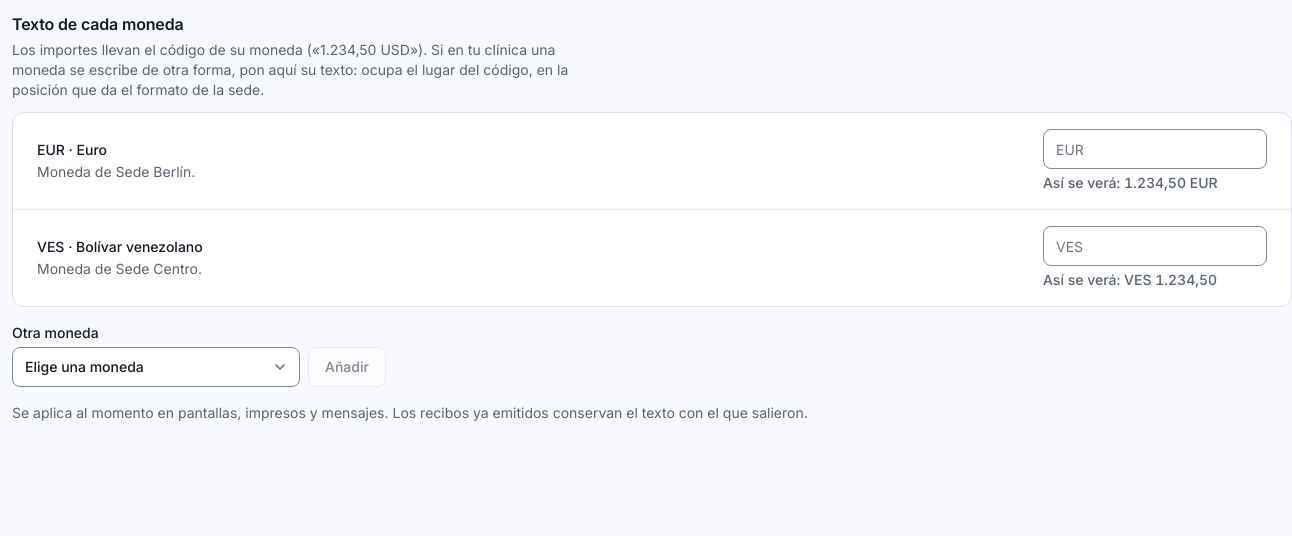
Test: Ajustes › Monedas (DX-517) › escribir «Bs.» lo previsualiza con el formato de la sede y guardar lo aplica a toda la pestaña
Type " Bs. " into the field named "Texto de VES" at (1155, 246), box [1043,226,1267,266]
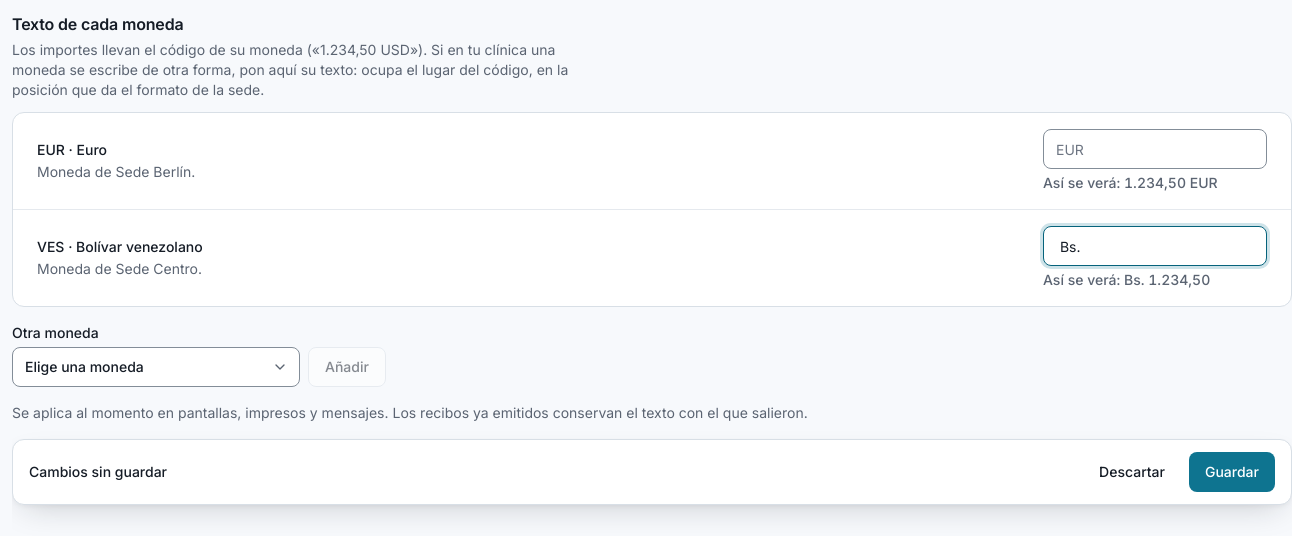
Now the text "Así se verá: Bs. 1.234,50" is shown, box [1043,271,1210,288]
Now the element "Cambios sin guardar" is shown, box [12,439,1291,505]
Click the button with aria-label "Guardar el texto de las monedas" at (1232, 472), box [1189,452,1275,492]
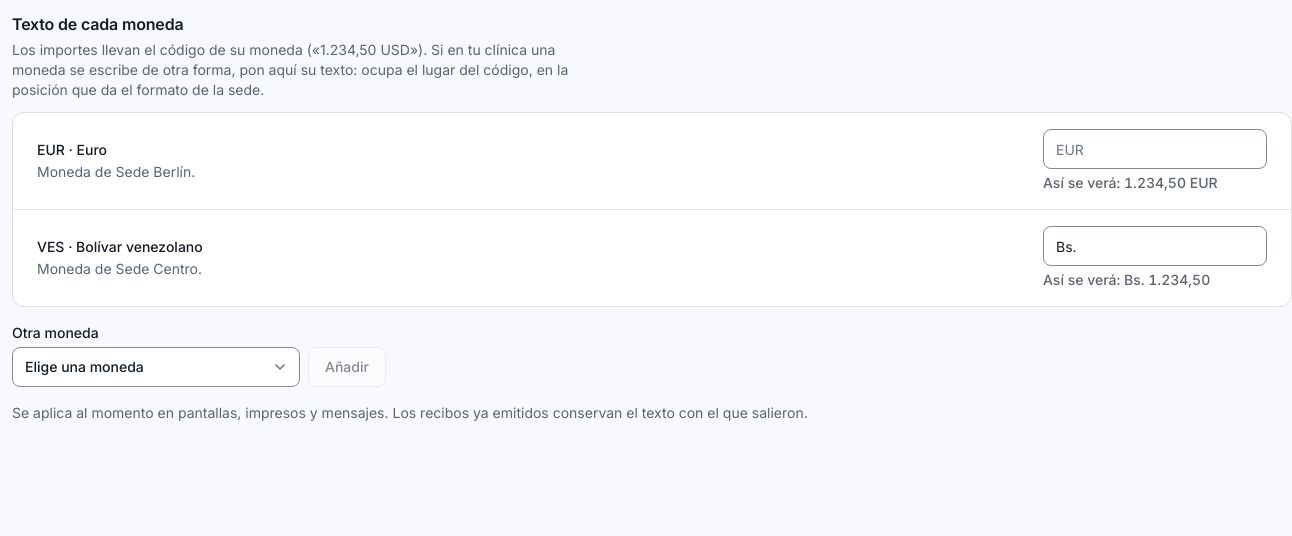
Now the text "Cambios sin guardar" is gone
